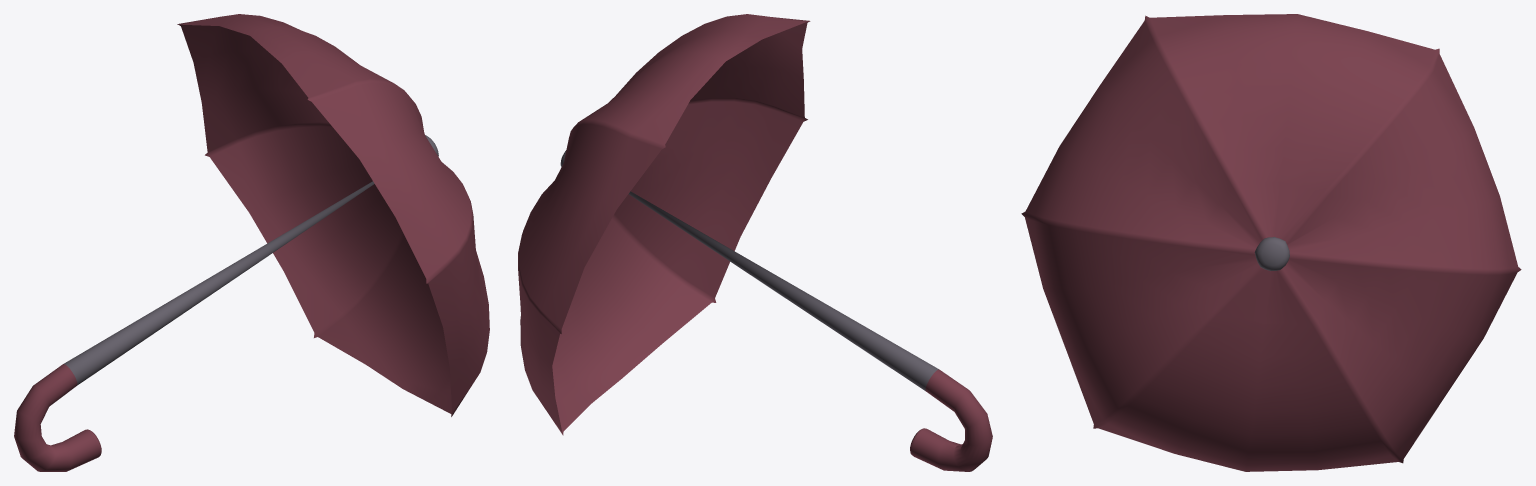
The model's file is Umbrella_Mesh.fbx.
3 renders of one model, left to right at view 1: azimuth 30°, elevation 25°; view 2: azimuth 150°, elevation 25°; view 3: azimuth 270°, elevation 25°, orthographic. The views are drawn at different scales.
Visible parts, largest first — view 1: pSphere2; view 2: pSphere2; view 3: pSphere2.
Part boxes in pixels (box(x1,y1,x2,y2)): pSphere2: box(14, 14, 489, 471); pSphere2: box(518, 14, 992, 471); pSphere2: box(1021, 14, 1521, 471).
Size of the model in its own units: 3.93 by 3.28 by 3.72.
